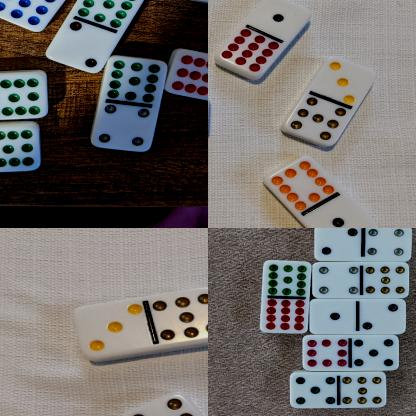pip-1: (250, 0, 313, 35), (308, 200, 379, 228), (309, 298, 359, 335)
pip-10: (268, 156, 336, 210)
pip-11: (106, 56, 169, 102), (0, 71, 48, 119), (0, 122, 40, 171), (78, 0, 147, 27), (263, 260, 312, 298)
pip-12: (220, 28, 280, 75), (260, 297, 311, 334), (171, 49, 208, 98)
pip-2: (46, 22, 114, 73), (358, 298, 406, 333), (314, 228, 363, 260)
pip-3: (75, 299, 151, 359), (316, 57, 379, 103)
pip-4: (91, 102, 160, 152), (312, 261, 363, 298), (364, 228, 412, 261)
pip-5: (290, 371, 338, 409), (351, 335, 400, 371)
pip-7: (151, 288, 208, 343), (287, 95, 347, 147), (123, 394, 207, 416), (339, 371, 387, 407), (362, 262, 410, 298)
pip-8: (302, 335, 351, 371)
pip-9: (0, 0, 67, 31)
